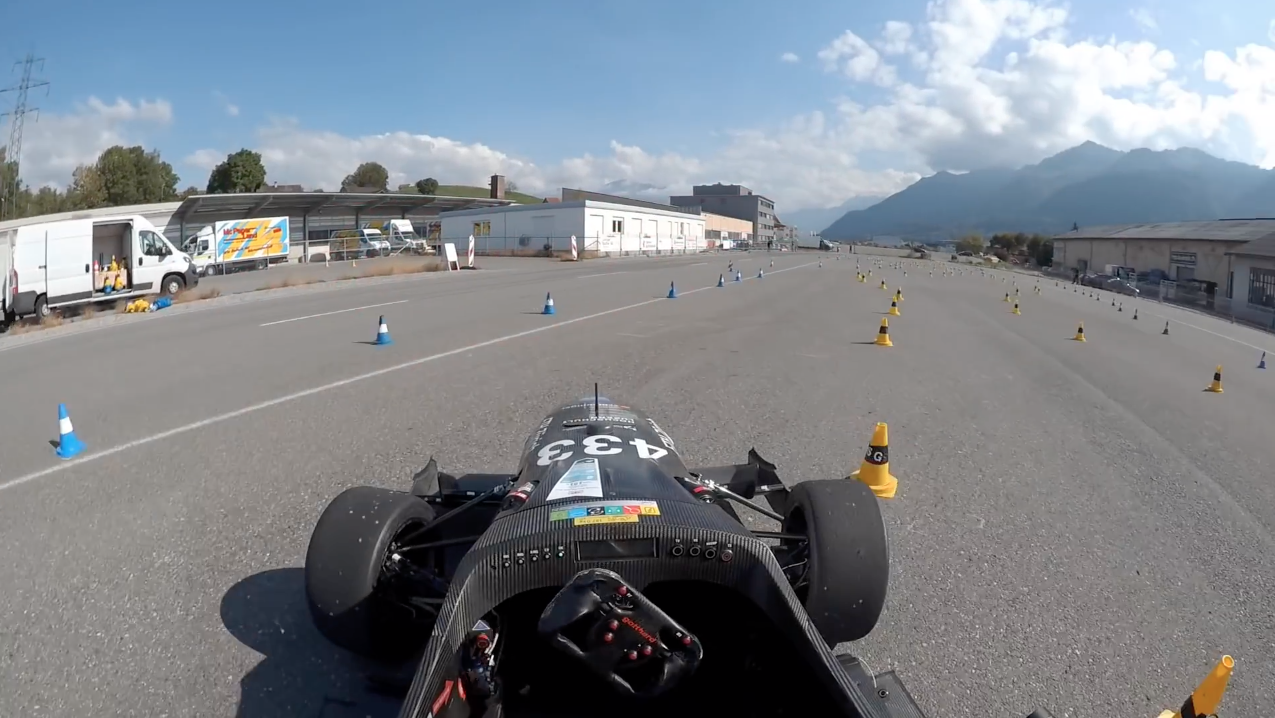lcone: (50, 402, 87, 464), (371, 314, 394, 350), (537, 289, 558, 318)
rcone: (848, 419, 905, 500), (871, 315, 896, 351)
